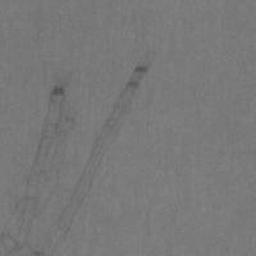Water spot: (0, 63, 150, 256)
